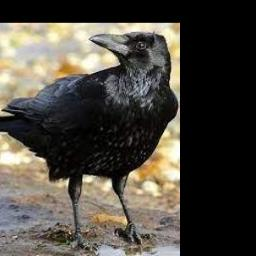Crow: (0, 31, 178, 251)
